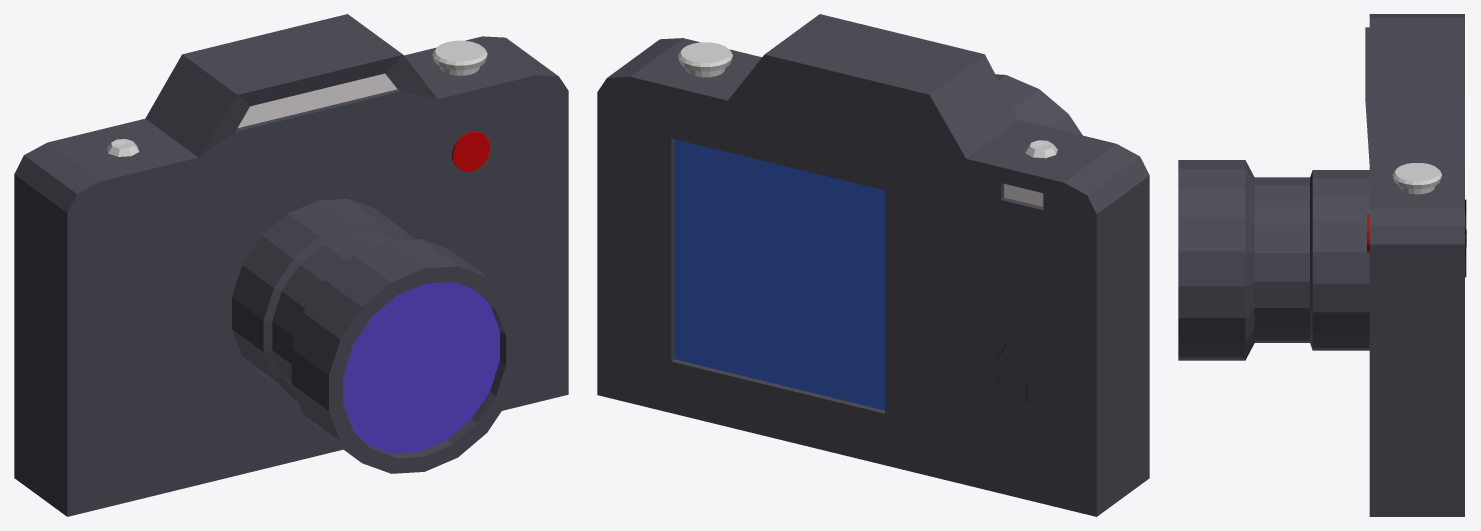
Rendered from uploads_files_833943_Low_poly_camera.fbx.
The picture shows the model from 3 angles, left to right: view 1: azimuth 30°, elevation 25°; view 2: azimuth 150°, elevation 25°; view 3: azimuth 270°, elevation 25°; orthographic projection. The views are drawn at different scales.
Visible parts, largest first — view 1: Low_poly_camera; view 2: Low_poly_camera; view 3: Low_poly_camera.
Boxes of the visible parts, x1,y1,x2,y2 form: Low_poly_camera: [14, 14, 568, 516]; Low_poly_camera: [597, 14, 1149, 516]; Low_poly_camera: [1178, 14, 1466, 516].
Size of the model in its own units: 200 by 146 by 111.
